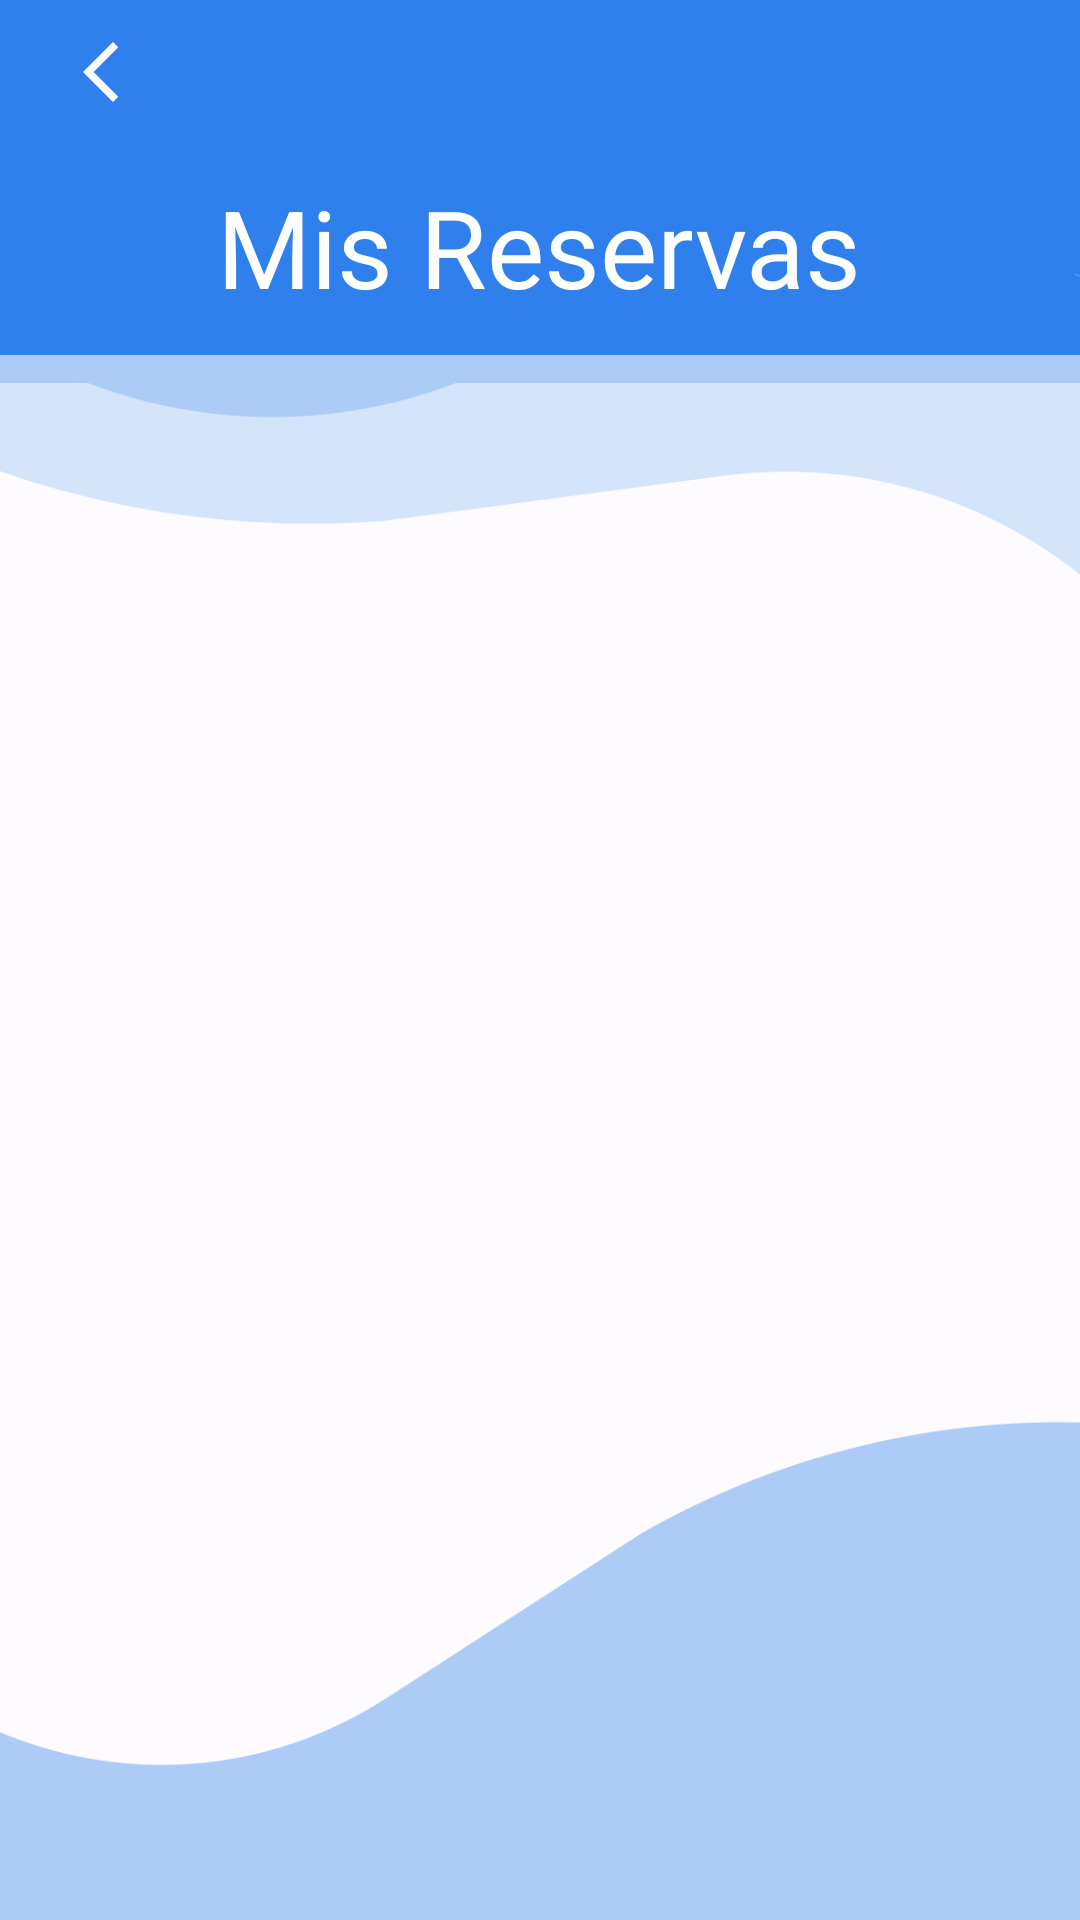

Locate icon controls on the screen. Image size 1080 x 1920, boxes as box=[x1, y1, x2, y2].
Go back: box=[83, 42, 118, 102]
